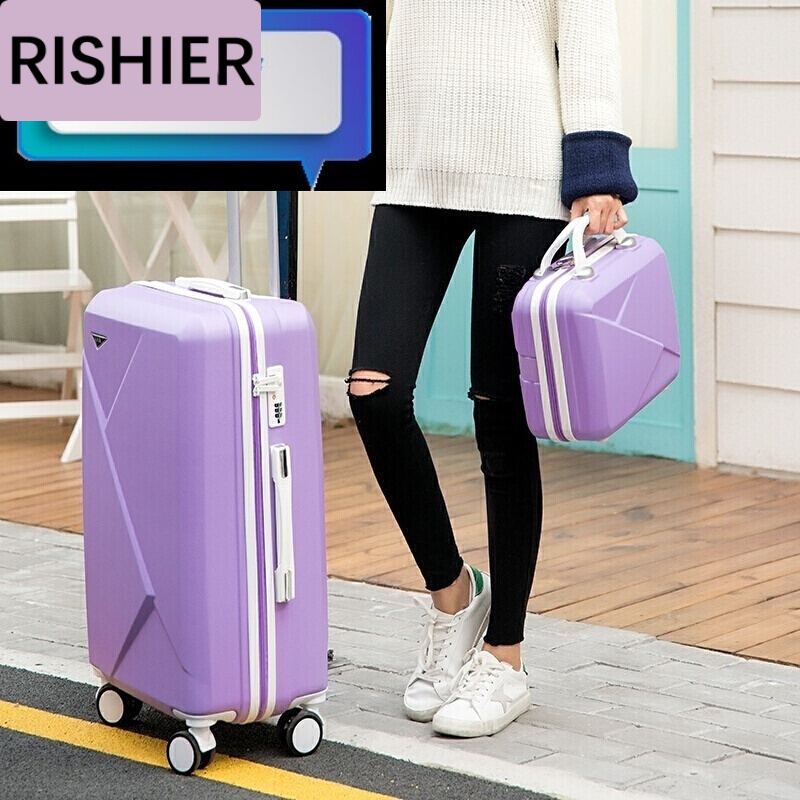box: (83, 281, 328, 730)
handle: (269, 442, 296, 603), (172, 276, 251, 300)
lock: (256, 365, 287, 428)
wheel: (275, 708, 324, 757), (165, 728, 217, 774), (95, 683, 144, 725)
